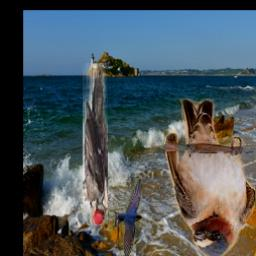Swallow: (166, 99, 256, 256), (110, 179, 143, 256)
Woodpecker: (84, 63, 109, 226)
